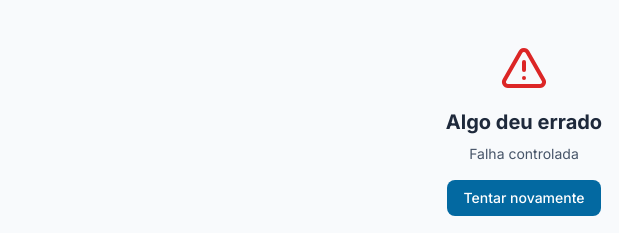
Test: ErrorBoundary › captura o erro e permite tentar novamente
expect the message shows "Falha controlada": met, box [469,145,579,162]
Click the button "Tentar novamente". click: [524, 198]
box: [448,180,601,216]
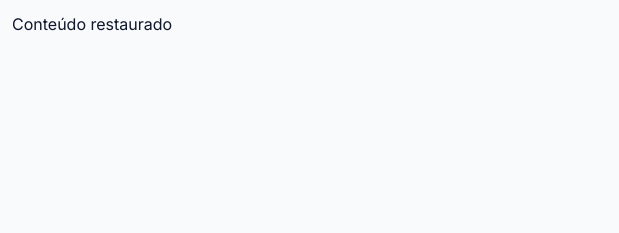
expect the text "Conteúdo restaurado" is shown: met, box [12,14,172,34]
